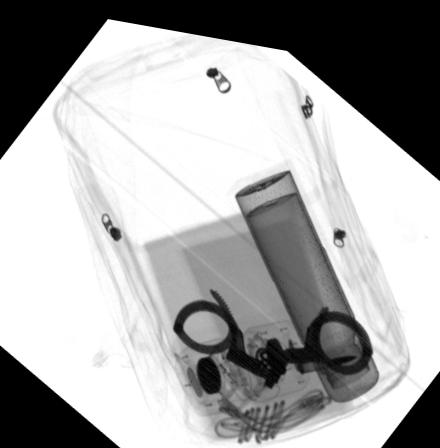Bullet: (297, 340, 359, 361)
HandCuffs: (170, 277, 374, 377)
